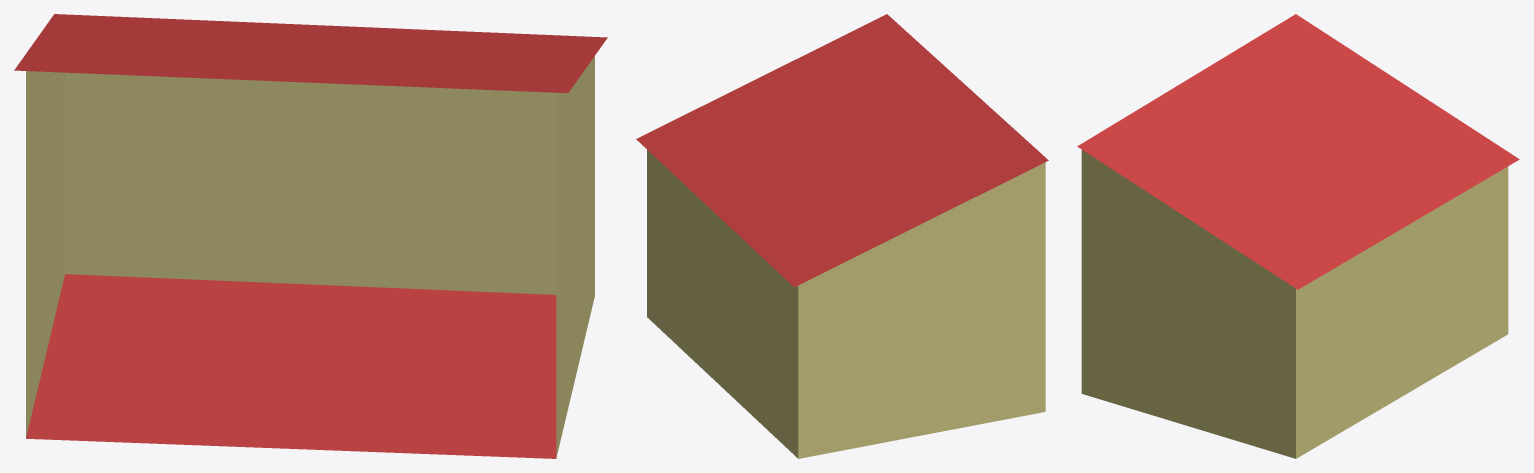
3 renders of one model, left to right at view 1: azimuth 30°, elevation 25°; view 2: azimuth 150°, elevation 25°; view 3: azimuth 270°, elevation 25°, orthographic. The views are drawn at different scales.
Bounding box in the file's own units: 14.32 × 13.5 × 8.45.
